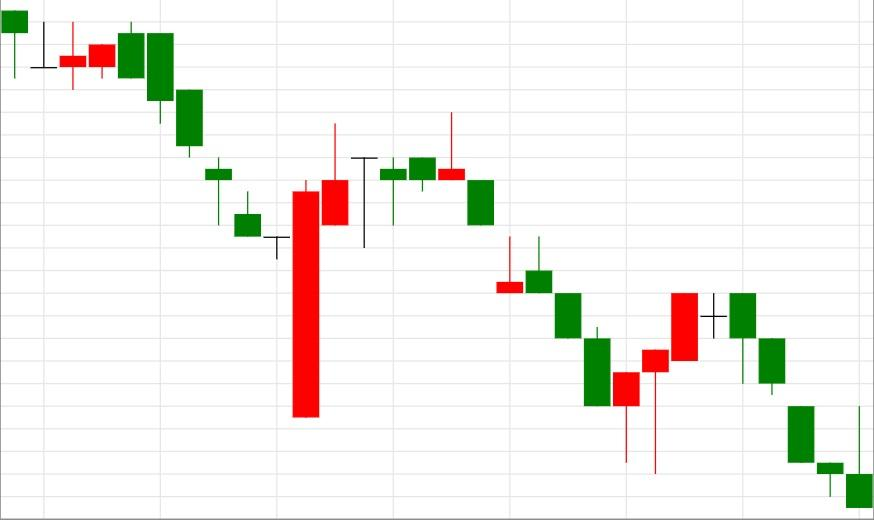bearish_engulfing_fall: (28, 21, 145, 89)
three_black_crows_fall: (612, 293, 815, 474)
